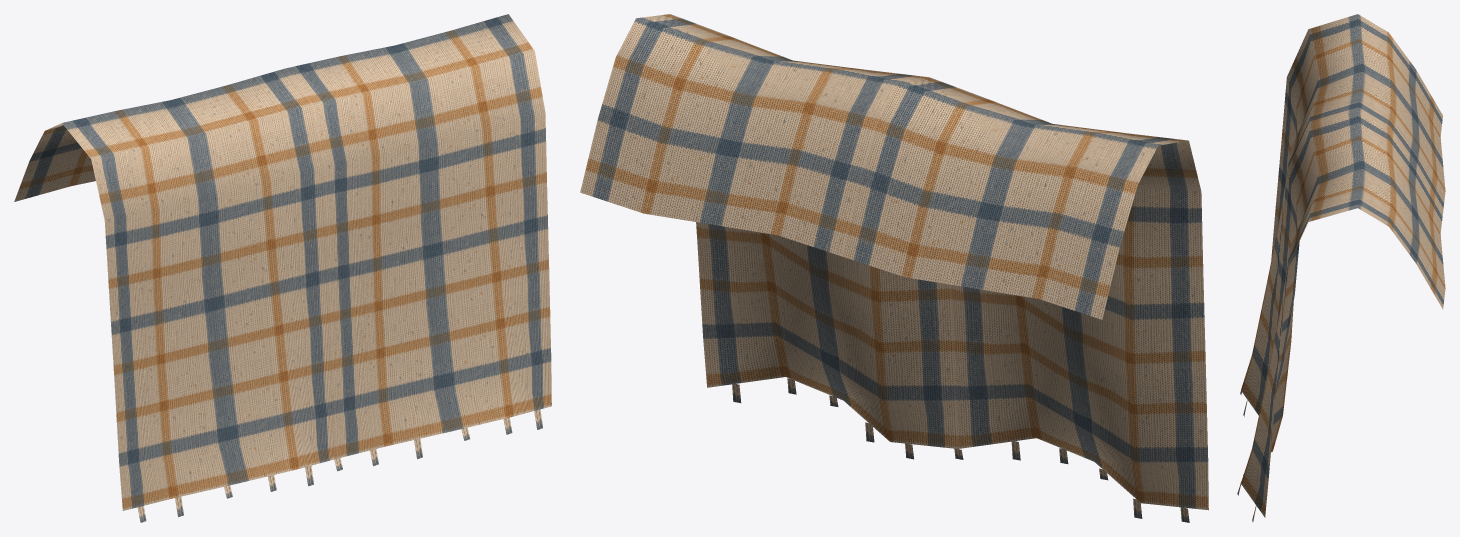
File: sofa_throw.glb
The picture shows the model from 3 angles, left to right: view 1: azimuth 30°, elevation 25°; view 2: azimuth 150°, elevation 25°; view 3: azimuth 270°, elevation 25°; orthographic projection. The views are drawn at different scales.
Visible parts, largest first — view 1: sofa_throw; view 2: sofa_throw; view 3: sofa_throw.
Part boxes in pixels (<box>): sofa_throw: <box>14,14,551,522</box>; sofa_throw: <box>580,14,1208,522</box>; sofa_throw: <box>1237,14,1445,521</box>.
Size of the model in its own units: 0.56 by 0.4465 by 0.2537.
1 material, 1 textured.
